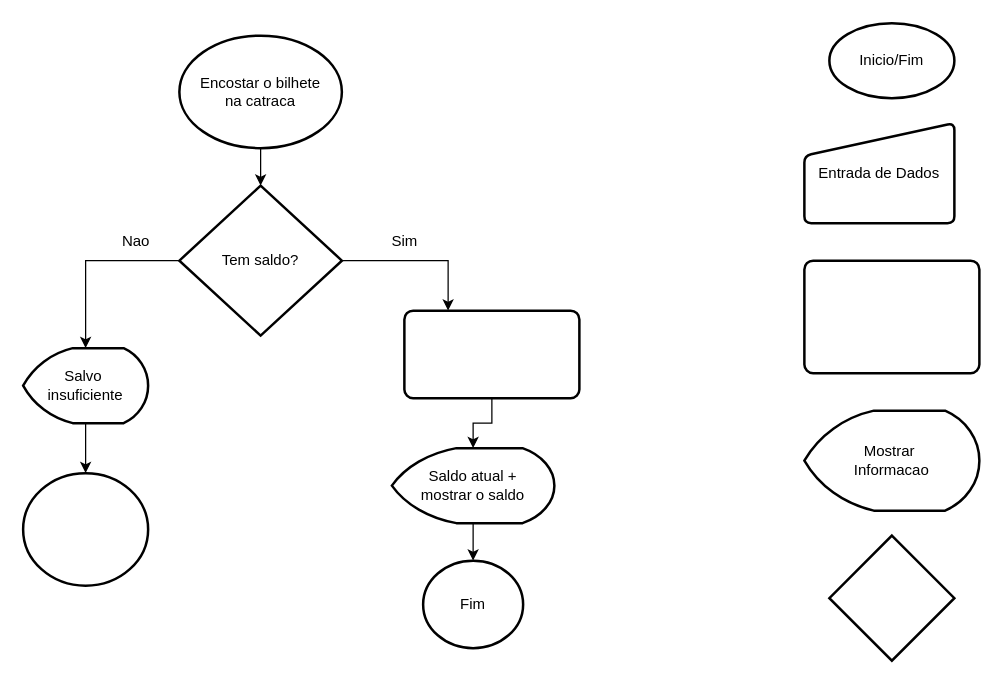
Image size: 1001x683. Some labels were removed from this diagram. Each missing label, with the centre of its shape:
"Decisao" belongs at pixel 891 597.
"Descontar o valor da passagem" belongs at pixel 491 354.
"Processamento" belongs at pixel 891 316.
"Sistema encerrado catraca nao liberada" belongs at pixel 85 528.
